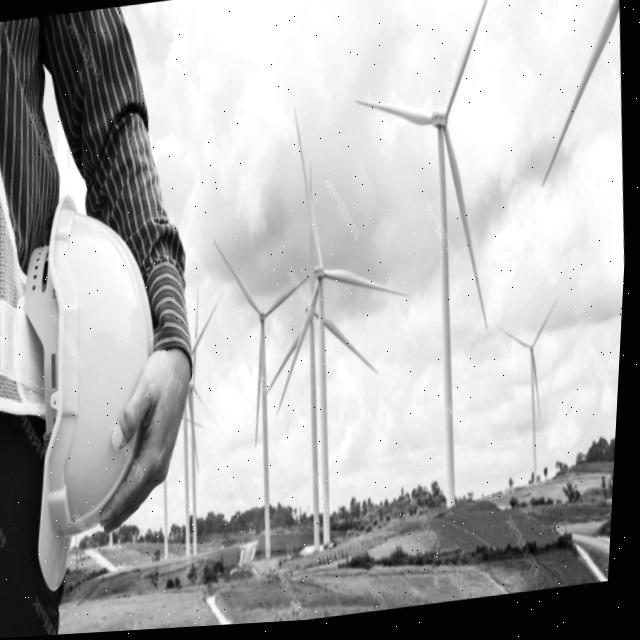solid-blade: (445, 130, 491, 332), (446, 0, 489, 121), (283, 290, 322, 413), (297, 117, 326, 273), (328, 323, 378, 373), (326, 274, 410, 300), (358, 104, 433, 130)
wind-turbine: (358, 0, 490, 510), (216, 243, 311, 562)
